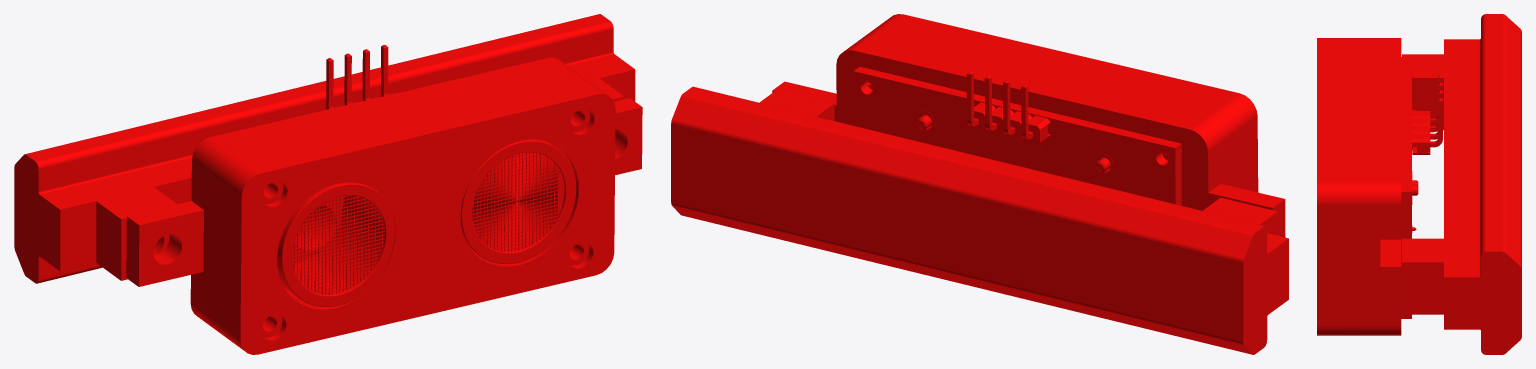
File: sonar6.dae
3 renders of one model, left to right at view 1: azimuth 30°, elevation 25°; view 2: azimuth 150°, elevation 25°; view 3: azimuth 270°, elevation 25°, orthographic. The views are drawn at different scales.
Visible parts, largest first — view 1: Body1 (×4), Platine.step.STEP.STEP, HC_SR04_gitter_001.step.STEP.STEP; view 2: Body1 (×3), Platine.step.STEP.STEP; view 3: Body1 (×3), Platine.step.STEP.STEP.
Part boxes in pixels (x1,y1,x2,y2): Body1 (×4): (14, 14, 642, 354); Platine.step.STEP.STEP: (277, 139, 576, 306); HC_SR04_gitter_001.step.STEP.STEP: (472, 152, 564, 251); Body1 (×3): (671, 14, 1288, 354); Platine.step.STEP.STEP: (853, 66, 1181, 205); Body1 (×3): (1317, 14, 1521, 354); Platine.step.STEP.STEP: (1401, 57, 1418, 318).
Size of the model in its own units: 0.08 by 0.0291 by 0.028.
